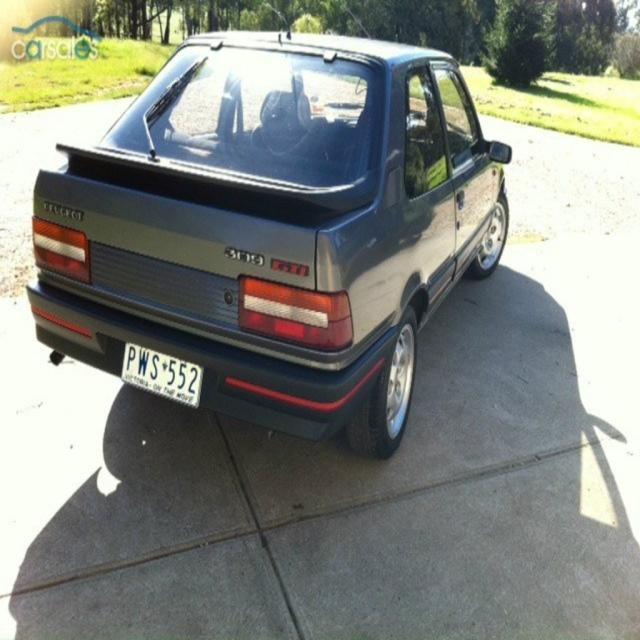car: (23, 29, 510, 460)
